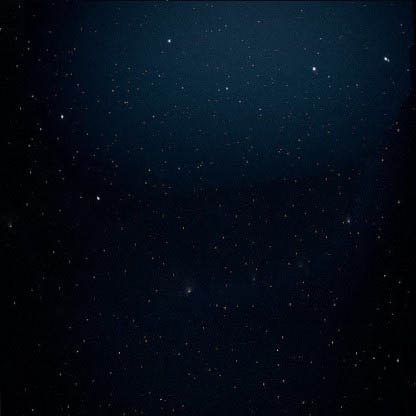Ursa Major: (84, 185, 110, 208), (156, 28, 178, 52), (301, 57, 321, 83), (216, 74, 235, 101), (375, 45, 393, 69), (55, 105, 73, 128)
